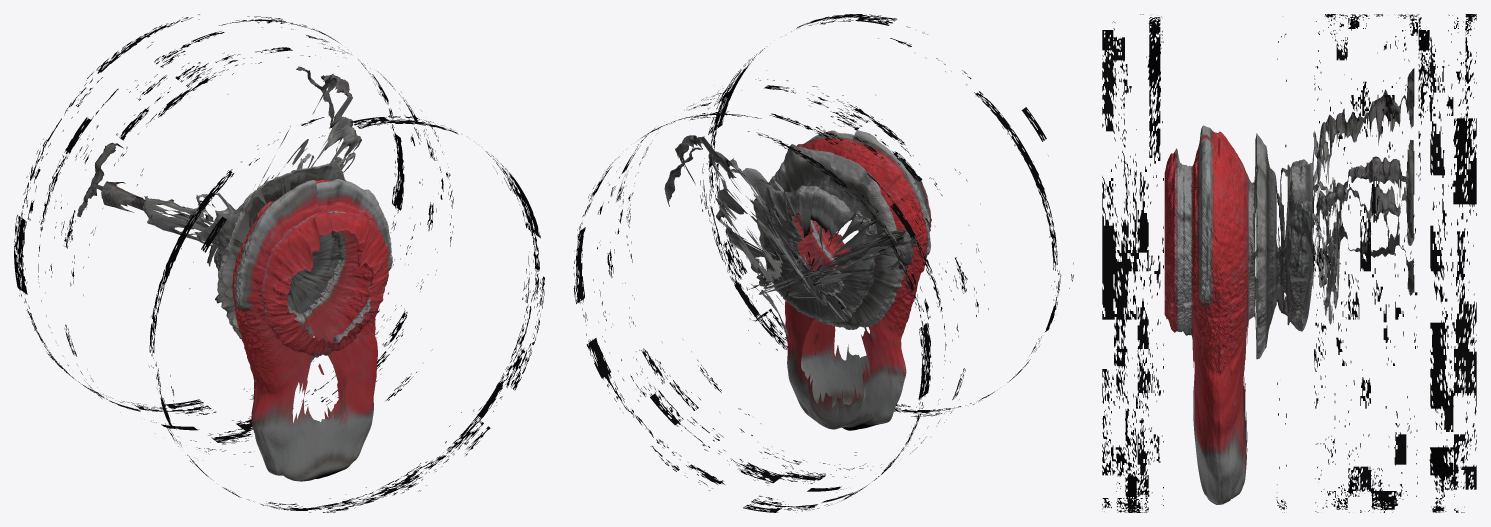
3 renders of one model, left to right at view 1: azimuth 30°, elevation 25°; view 2: azimuth 150°, elevation 25°; view 3: azimuth 270°, elevation 25°, orthographic. The views are drawn at different scales.
Parts seen in each view (by area): view 1: geometry_0; view 2: geometry_0; view 3: geometry_0.
Boxes of the visible parts, x1,y1,x2,y2 form: geometry_0: (14,14,544,512); geometry_0: (573,14,1073,512); geometry_0: (1102,14,1476,512).
Bounding box in the file's own units: 2 × 2 × 1.5.
1 material, 1 textured.
